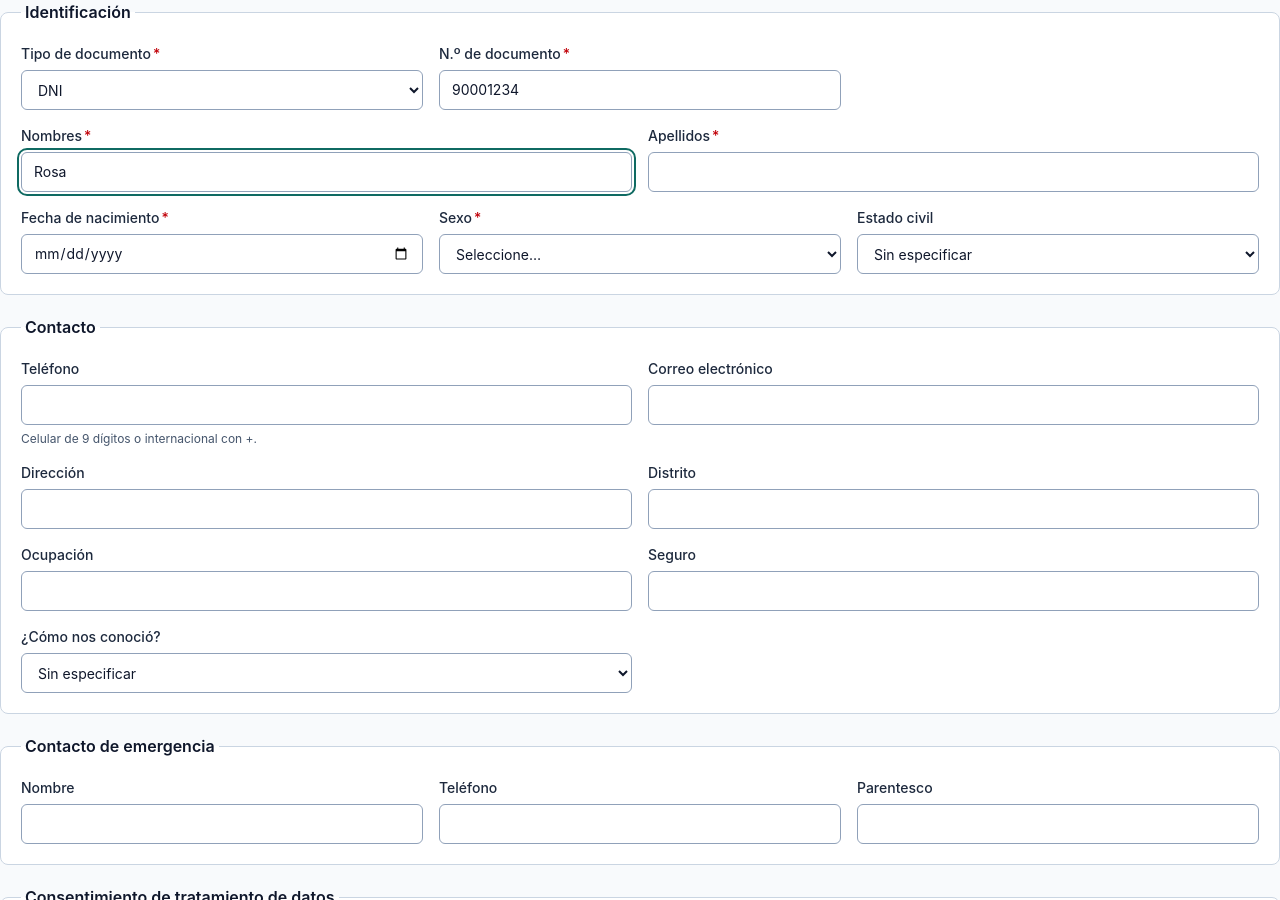
it: PatientForm (alta) › rechaza un DNI inválido y no envía
The width and height of the screenshot is (1280, 900).
Earlier steps of the test are not shown.
In the field labelled "Apellidos*": (954, 172) [648,152,1259,192], type "Quispe"
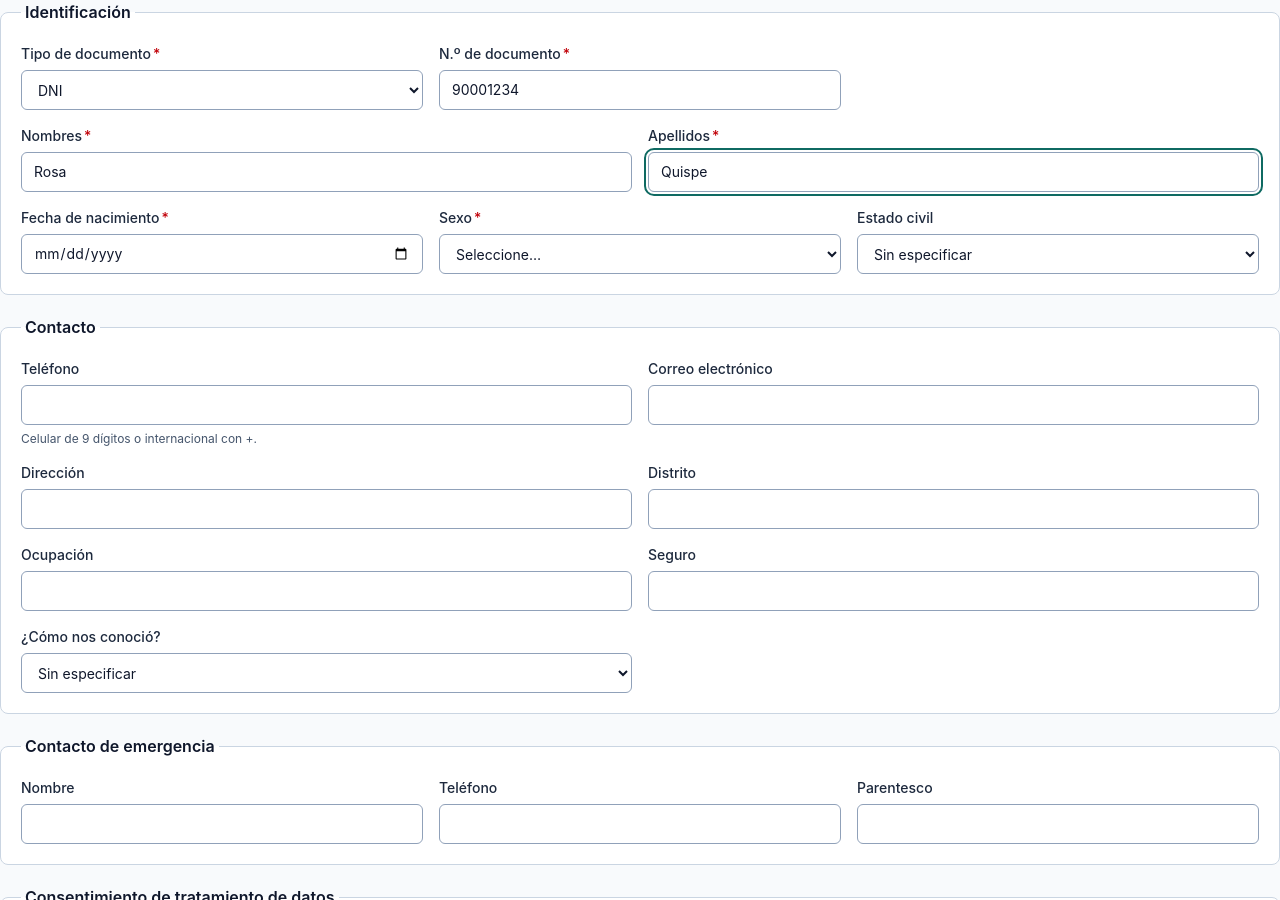
In the date field labelled "Fecha de nacimiento*": (222, 254) [21,234,423,274], type "1990-05-01"
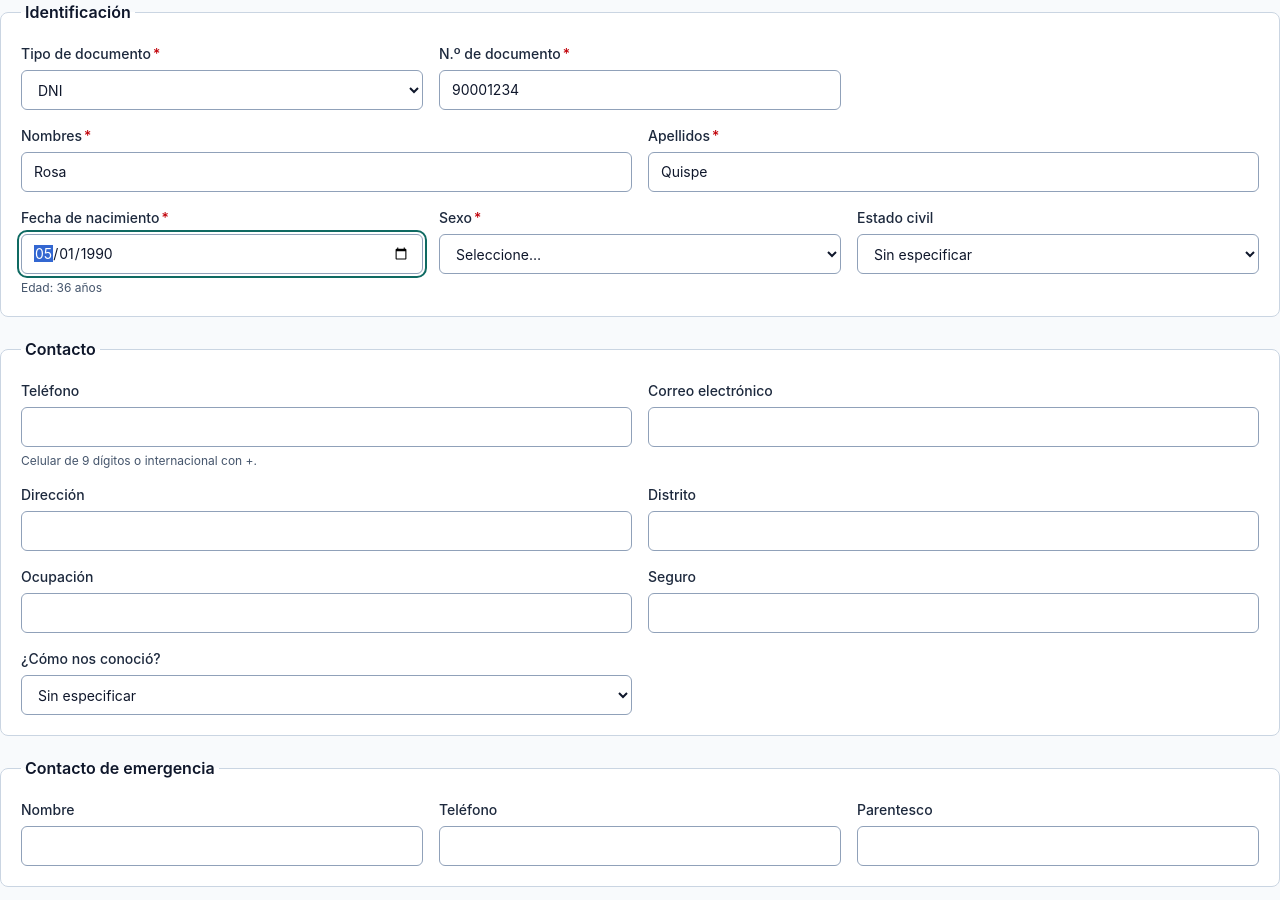
Select "Femenino" in the dropdown labelled "Sexo*": (640, 254) [439,234,841,274]
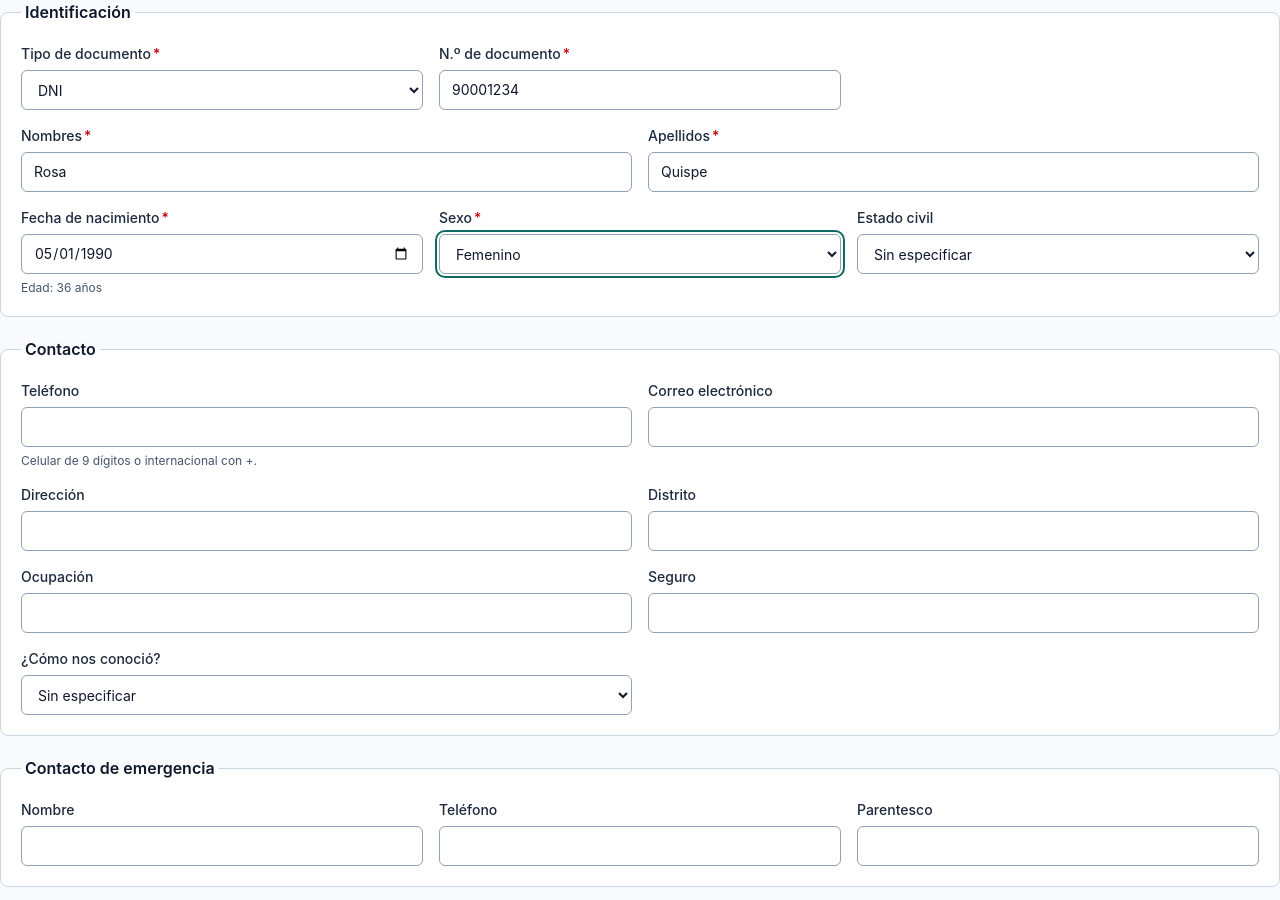
Replace the text in the field labelled "N.º de documento*" with "1234": (640, 90) [439,70,841,110]
(page scrolled)
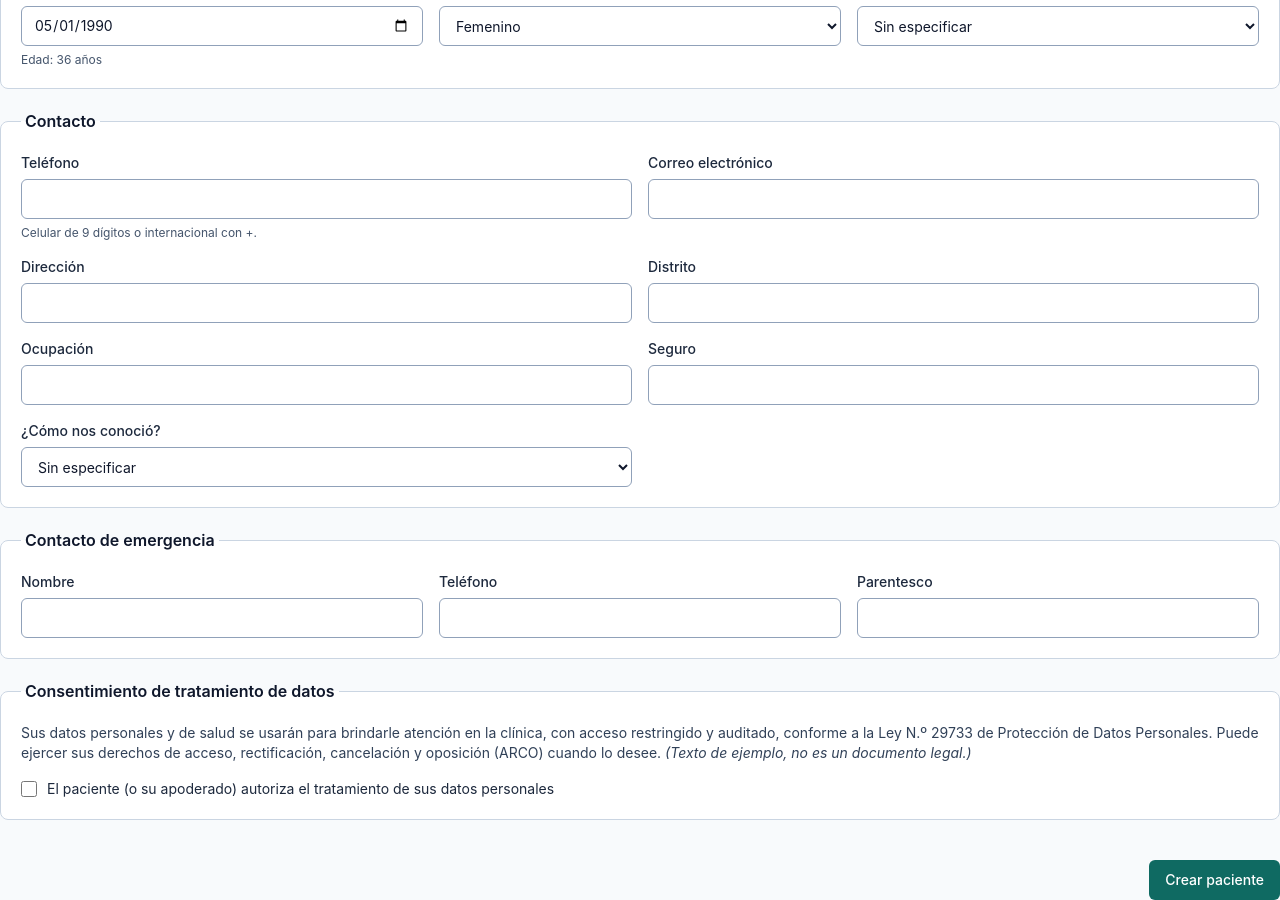
Click the checkbox labelled "autoriza el tratamiento": (29, 789) [21,781,37,797]
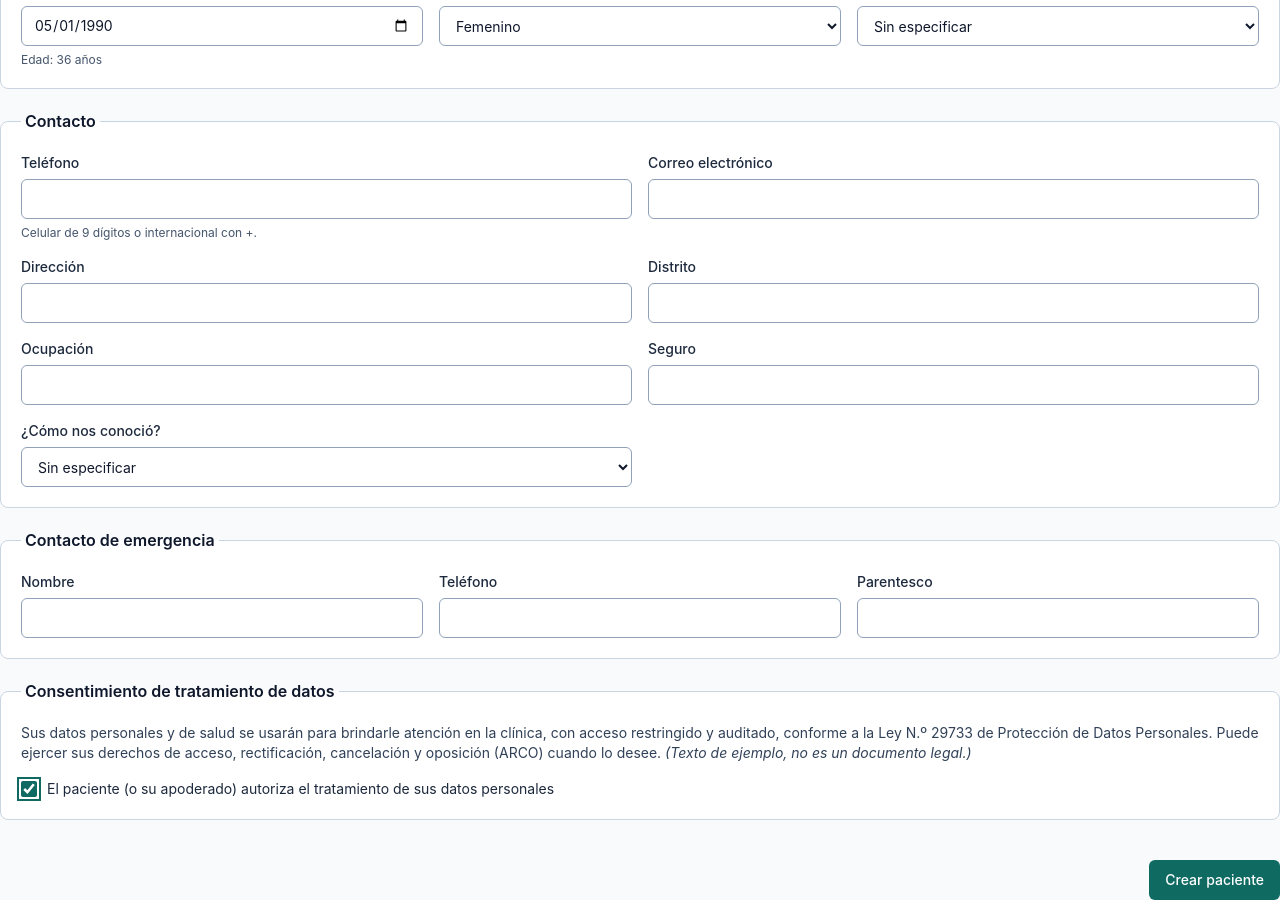
Click the button "Crear paciente": (1215, 880) [1149,860,1279,899]
(page scrolled)
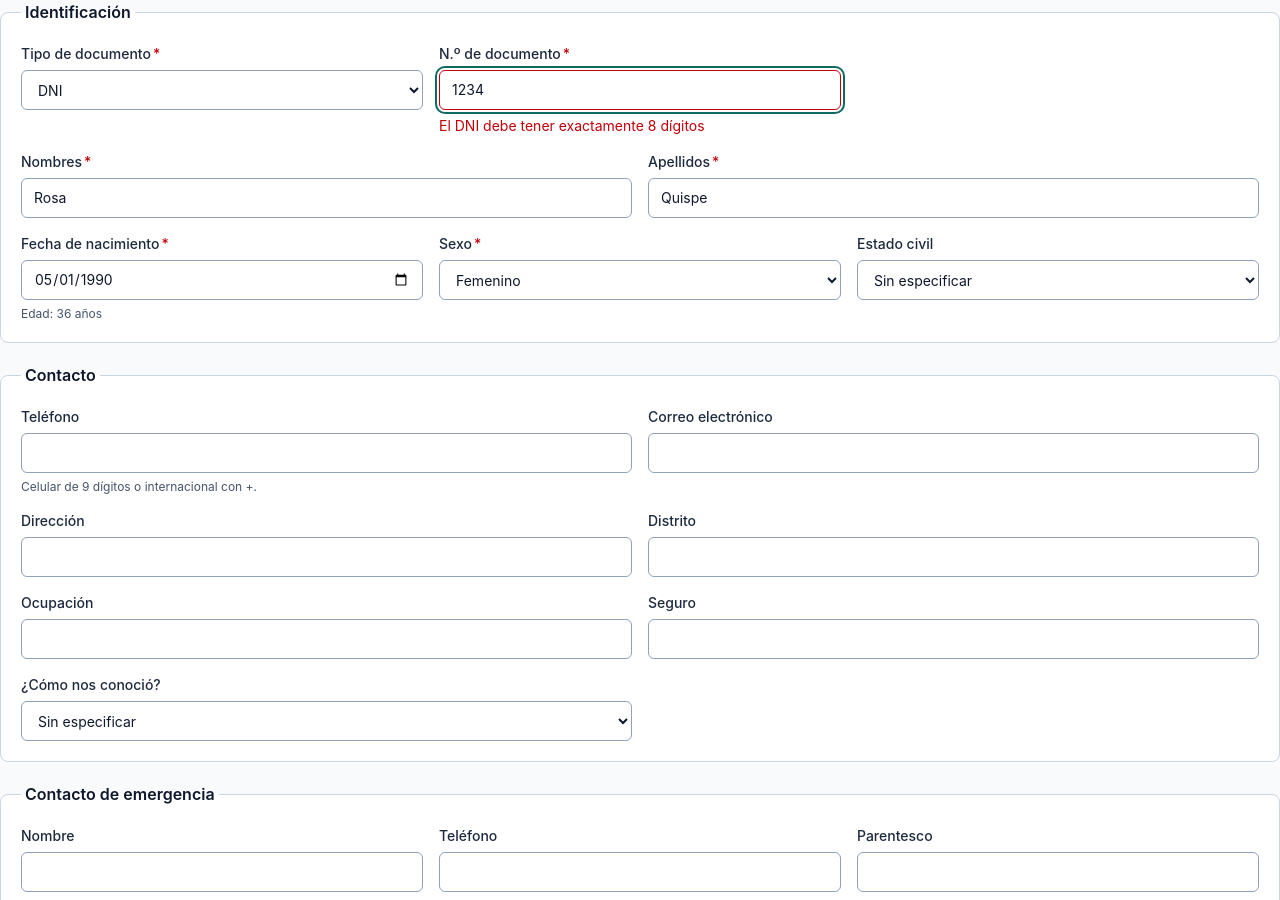
Check: the text "El DNI debe tener exactamente 8 dígitos" is shown, box [439,117,705,134]
